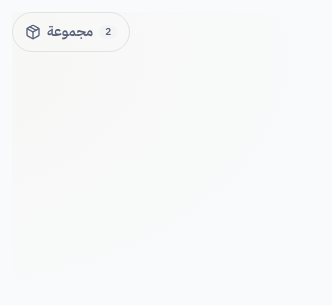
Test: the + at the end of every list › searches the WHOLE catalogue, including scannable products
Click the button with test id "quick-card-a".
click(71, 32)  # box [13, 13, 129, 51]
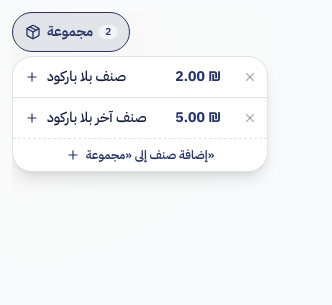
Click the button "إضافة صنف إلى «مجموعة»".
click(140, 154)  # box [13, 138, 267, 171]
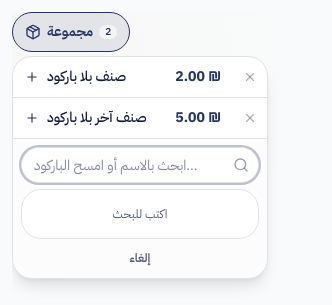
Type "بباركود" into the field named "ابحث عن صنف لإضافته".
click(140, 165); type("بباركود")  # box [21, 147, 259, 183]
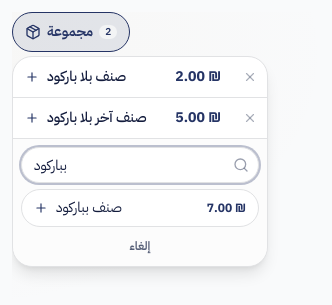
expect the text "صنف بباركود" is shown: met, box [56, 197, 122, 218]
